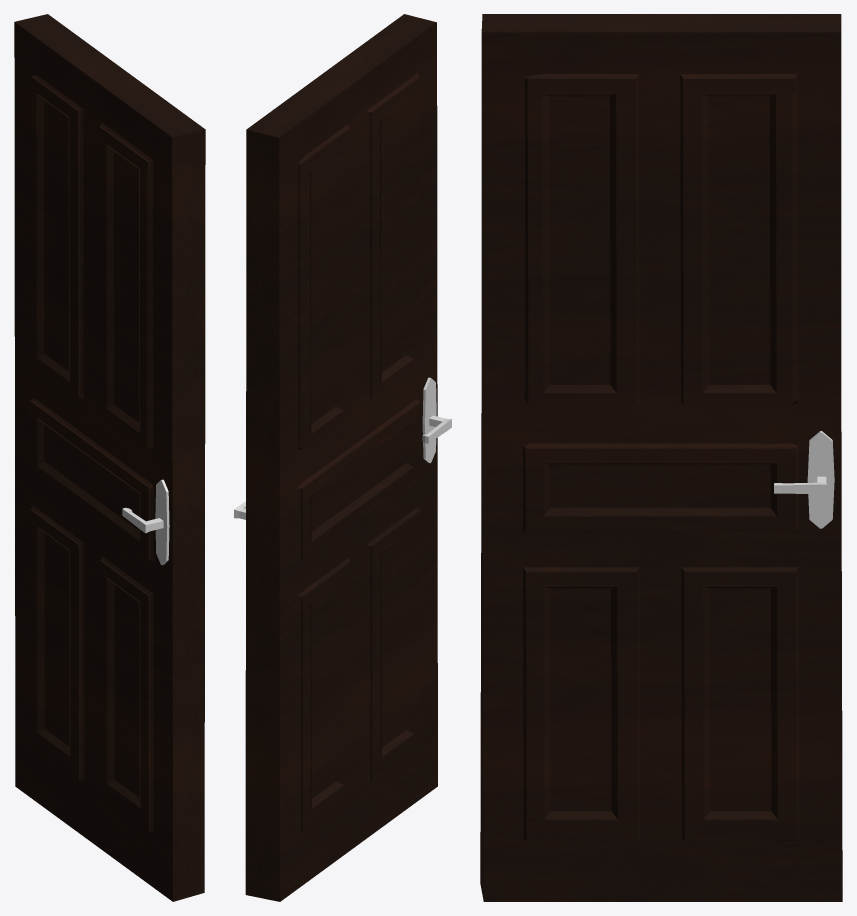
The model's file is Door.fbx.
3 renders of one model, left to right at view 1: azimuth 30°, elevation 25°; view 2: azimuth 150°, elevation 25°; view 3: azimuth 270°, elevation 25°, orthographic. The views are drawn at different scales.
Visible parts, largest first — view 1: Door, Handle, Cube.001; view 2: Door, Handle, Cube.001; view 3: Door, Handle.001.
Boxes of the visible parts, <box> form: Door: <box>14,14,205,901</box>; Handle: <box>155,479,169,564</box>; Cube.001: <box>122,507,163,533</box>; Door: <box>245,14,437,901</box>; Handle: <box>422,377,436,463</box>; Cube.001: <box>422,415,451,443</box>; Door: <box>480,14,842,901</box>; Handle.001: <box>807,431,834,528</box>.
Size of the model in its own units: 18.01 by 183 by 68.94.
2 materials, 1 textured.
